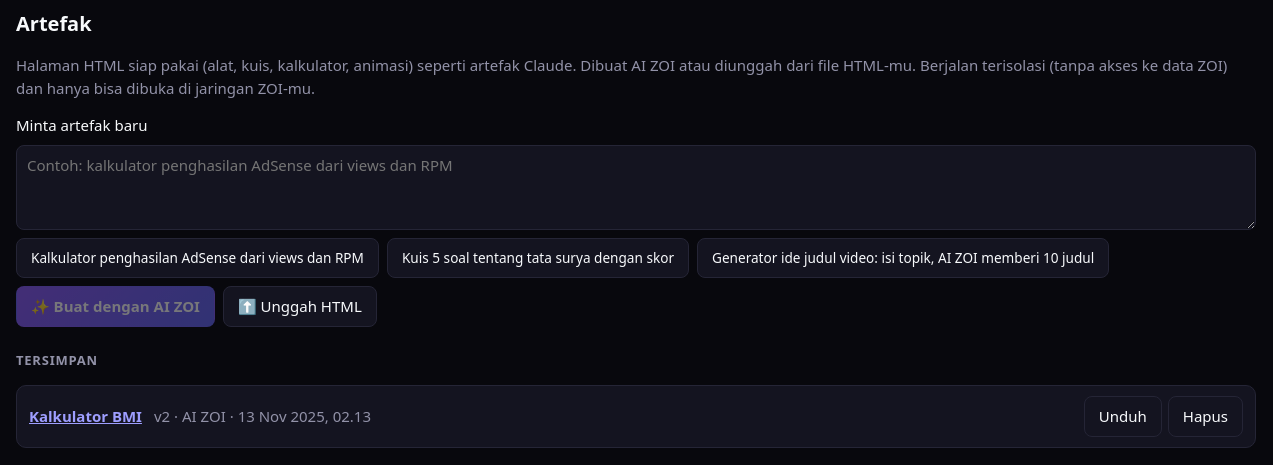
Test case: Artefak › daftar artefak tampil; tombol AI aktif setelah permintaan diisi
Expected: the text "Kalkulator BMI" is shown, [29,406,142,426]
Expected: the button with test id "art-generate" is disabled, [16,286,215,326]
In the text box with test id "art-request": (636, 187) [16,144,1256,230], type "kuis tata surya"
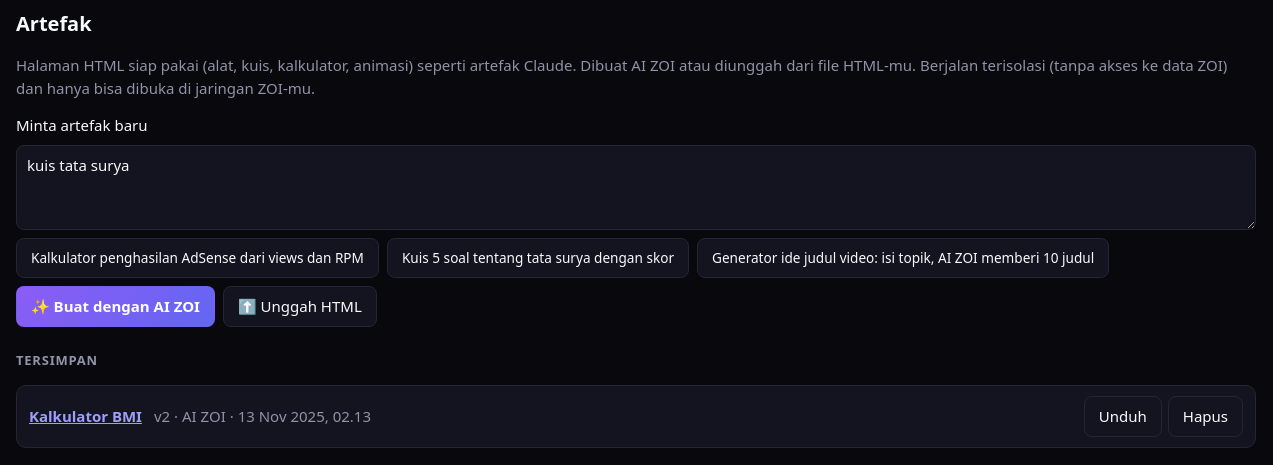
Expected: the button with test id "art-generate" is enabled, [16,286,215,326]
